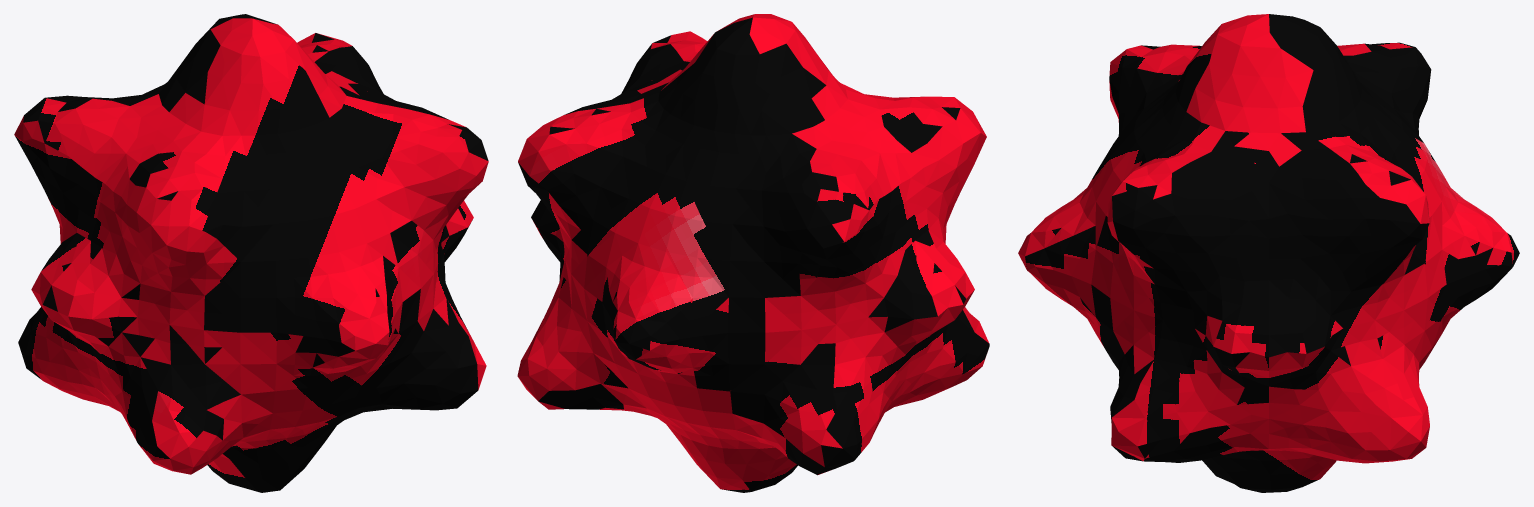
The model's file is Spike.dae.
3 renders of one model, left to right at view 1: azimuth 30°, elevation 25°; view 2: azimuth 150°, elevation 25°; view 3: azimuth 270°, elevation 25°, orthographic.
Visible parts, largest first — view 1: Sphere; view 2: Sphere; view 3: Sphere.
Part boxes in pixels (x1,y1,x2,y2): Sphere: [14, 14, 488, 492]; Sphere: [517, 14, 989, 492]; Sphere: [1018, 14, 1519, 492].
Size of the model in its own units: 2.58 by 2.63 by 2.76.
Materials: 1 (1 with a texture image).
